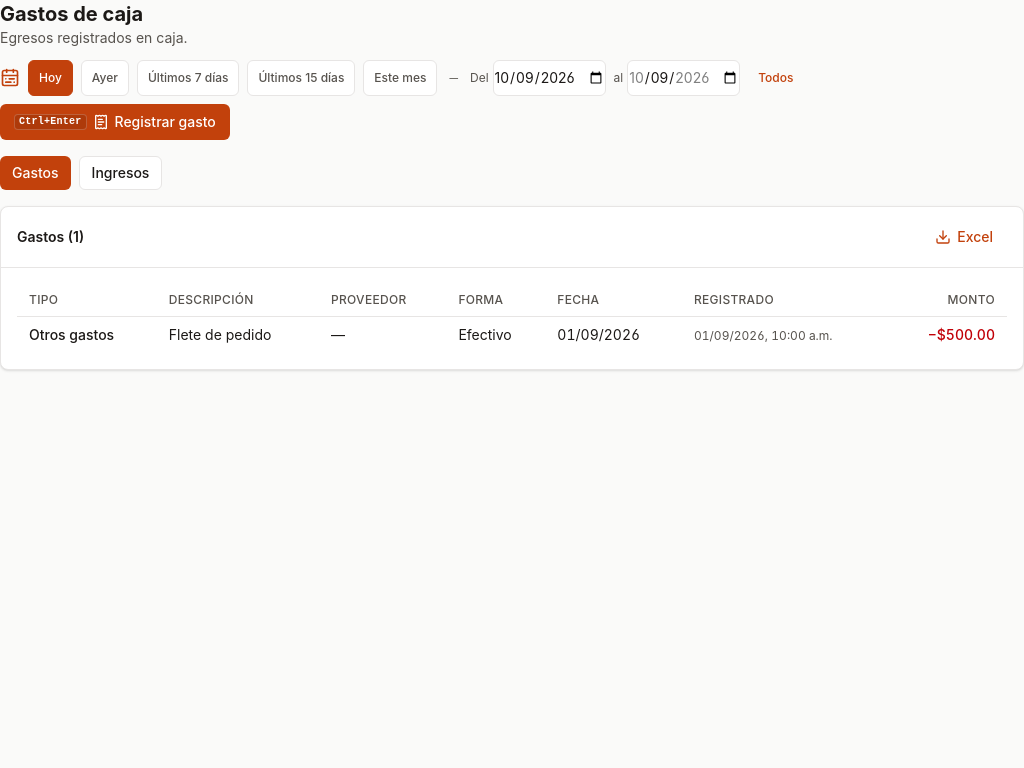
Test: GastosPage (smoke) › 'Registrar gasto' abre el diálogo con el formulario
expect the text "Flete de pedido" is shown: met, box 169,326 -> 272,343
Click the button "Ctrl+Enter Registrar gasto": (115, 122) 0,104 -> 230,140
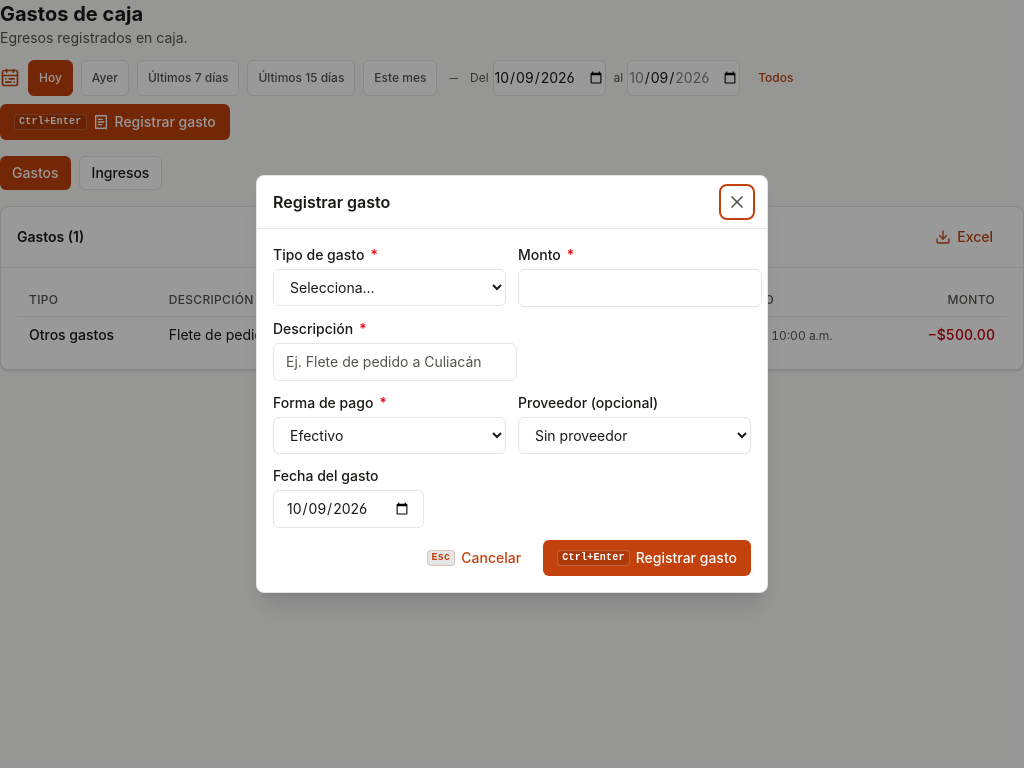
expect the heading "Registrar gasto" is shown: met, box 273,190 -> 390,214
expect the dropdown labelled "Tipo de gasto *" is shown: met, box 273,269 -> 506,306
expect the number field labelled "Monto *" is shown: met, box 518,269 -> 762,307
